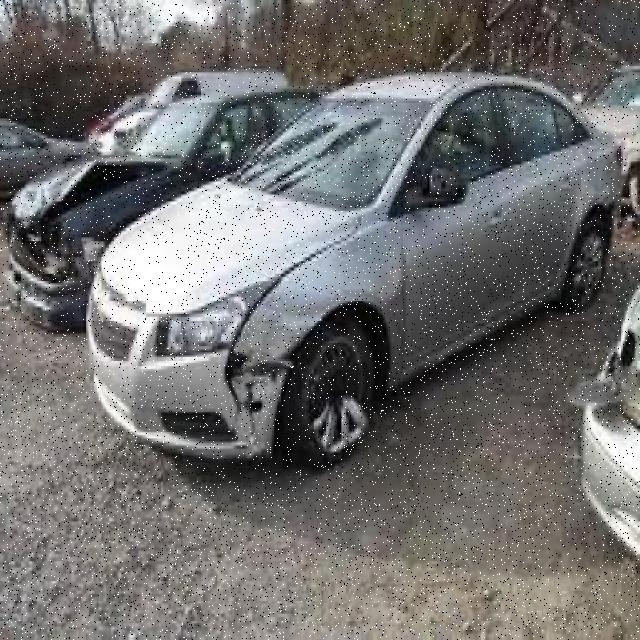damage: (204, 234, 404, 472)
